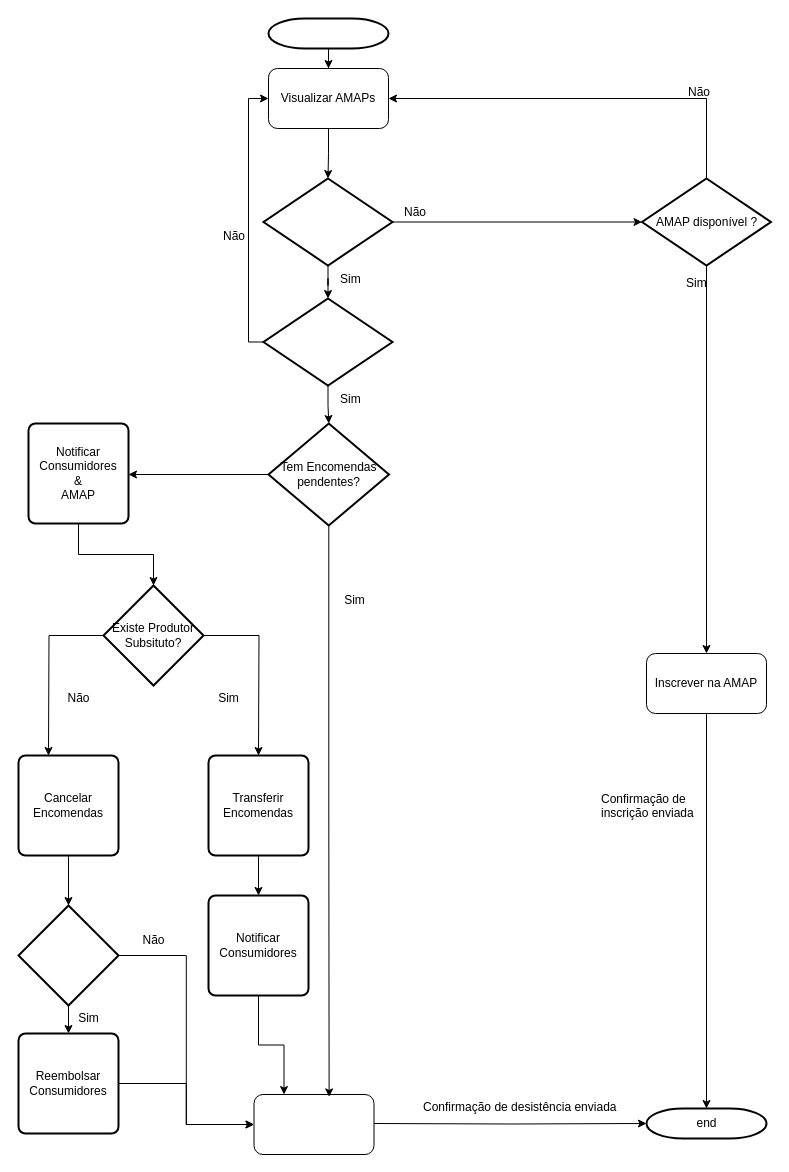
The diagram is 789 pixels wide and 1172 high, and some of its shapes have lost their labels. Each missing label, with the box of its shape:
Desistir da AMAP: (253, 1094, 374, 1154)
Desistir da AMAP ?: (262, 297, 393, 386)
Inscrito na AMAP selecionada ?: (262, 177, 393, 266)
Necessario Reembolso: (17, 904, 119, 1006)
start: (267, 17, 389, 49)
